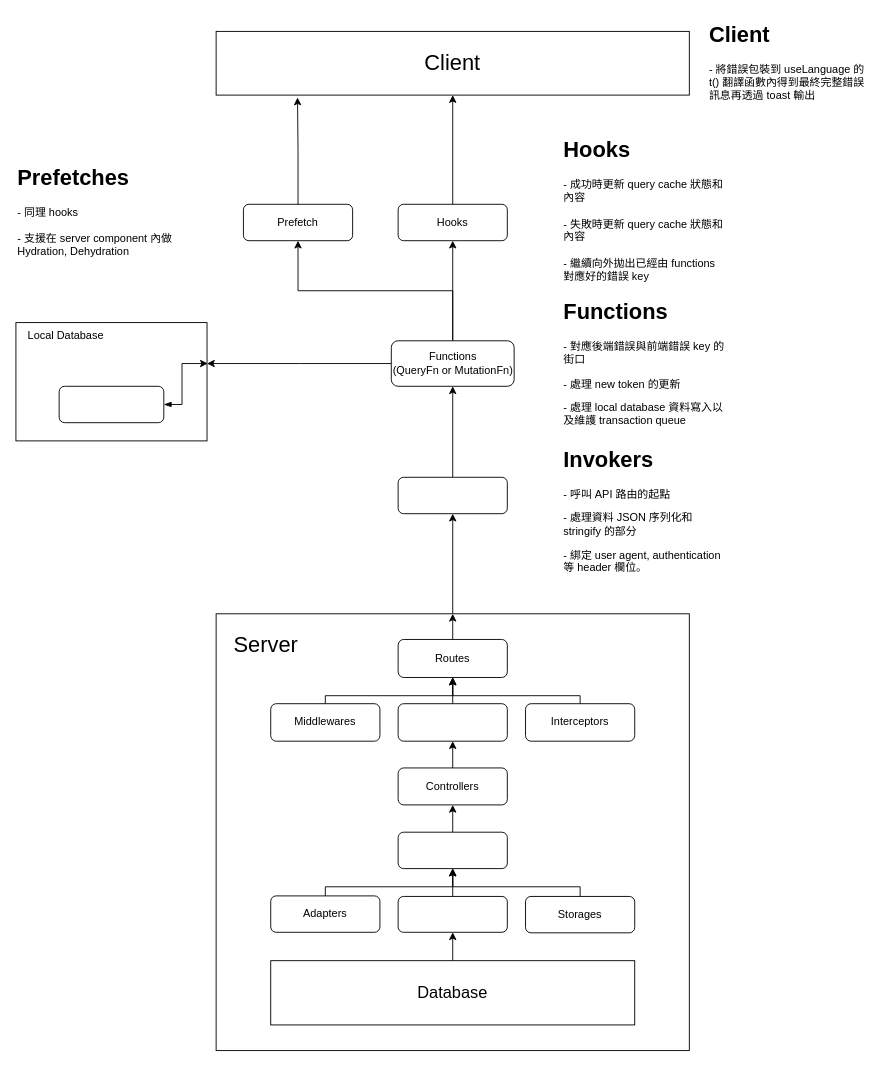
The diagram is 887 pixels wide and 1067 high, and some of its shapes have lost their labels. Each missing label, with the centre of its shape:
"Binders" goes at (x=452, y=722).
"Invokers" goes at (x=452, y=495).
"Repositories" goes at (x=452, y=914).
"Services" goes at (x=452, y=850).
"Transaction Queue" goes at (x=111, y=404).
